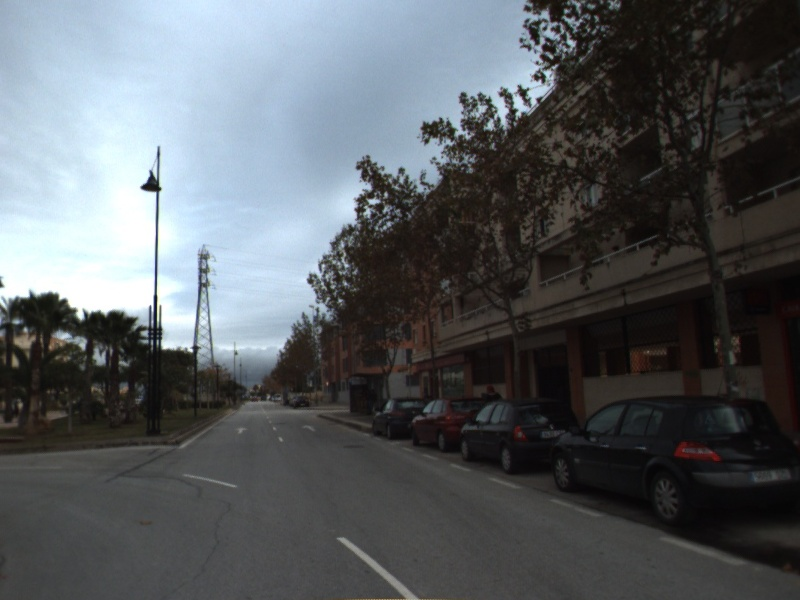STRAIGHT: (233, 425, 250, 436), (300, 423, 318, 433)
